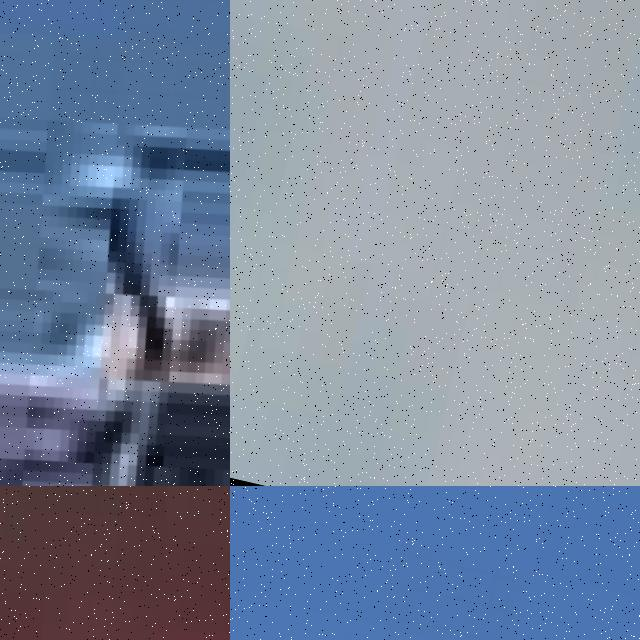drone: (0, 0, 230, 486), (0, 486, 230, 640)
